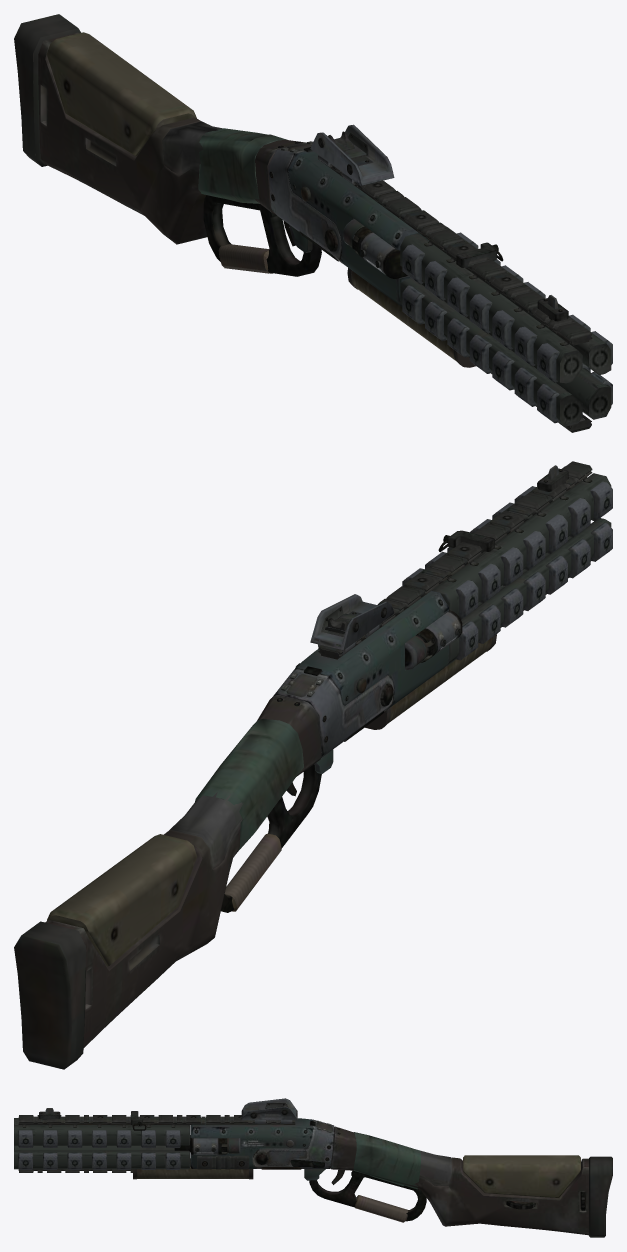
File: item.weapon.drift_pathfinder.glb
3 renders of one model, top to bottom at view 1: azimuth 30°, elevation 25°; view 2: azimuth 150°, elevation 25°; view 3: azimuth 270°, elevation 25°, orthographic. The views are drawn at different scales.
Visible parts, largest first — view 1: body_0_peacekeeper_base_main; view 2: body_0_peacekeeper_base_main; view 3: body_0_peacekeeper_base_main.
Boxes of the visible parts, left/top/right/bottom form: body_0_peacekeeper_base_main: left=14, top=14, right=612, bottom=432; body_0_peacekeeper_base_main: left=14, top=461, right=612, bottom=1069; body_0_peacekeeper_base_main: left=14, top=1098, right=612, bottom=1237.
Bounding box in the file's own units: 0.1042 × 0.2877 × 1.2.
Materials: 1 (1 with a texture image).
